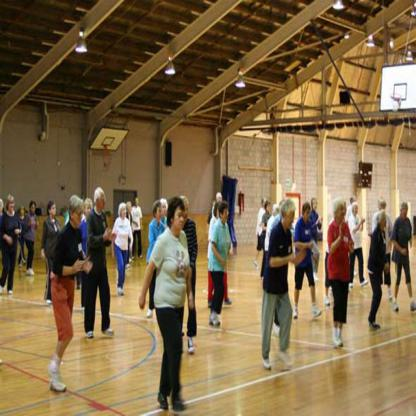face: (175, 209, 185, 231), (74, 208, 84, 226), (288, 212, 296, 229), (183, 204, 190, 223), (100, 195, 107, 210), (339, 206, 345, 221), (402, 205, 408, 217), (382, 214, 387, 228), (87, 205, 93, 216), (9, 200, 15, 211), (306, 208, 311, 221), (224, 210, 229, 223), (158, 207, 163, 219), (51, 206, 57, 216), (162, 203, 167, 214), (122, 207, 127, 218), (313, 200, 318, 210), (354, 206, 359, 215), (380, 205, 386, 212), (129, 204, 133, 214), (267, 204, 271, 213), (32, 205, 36, 214), (353, 197, 357, 206), (219, 196, 223, 204)
